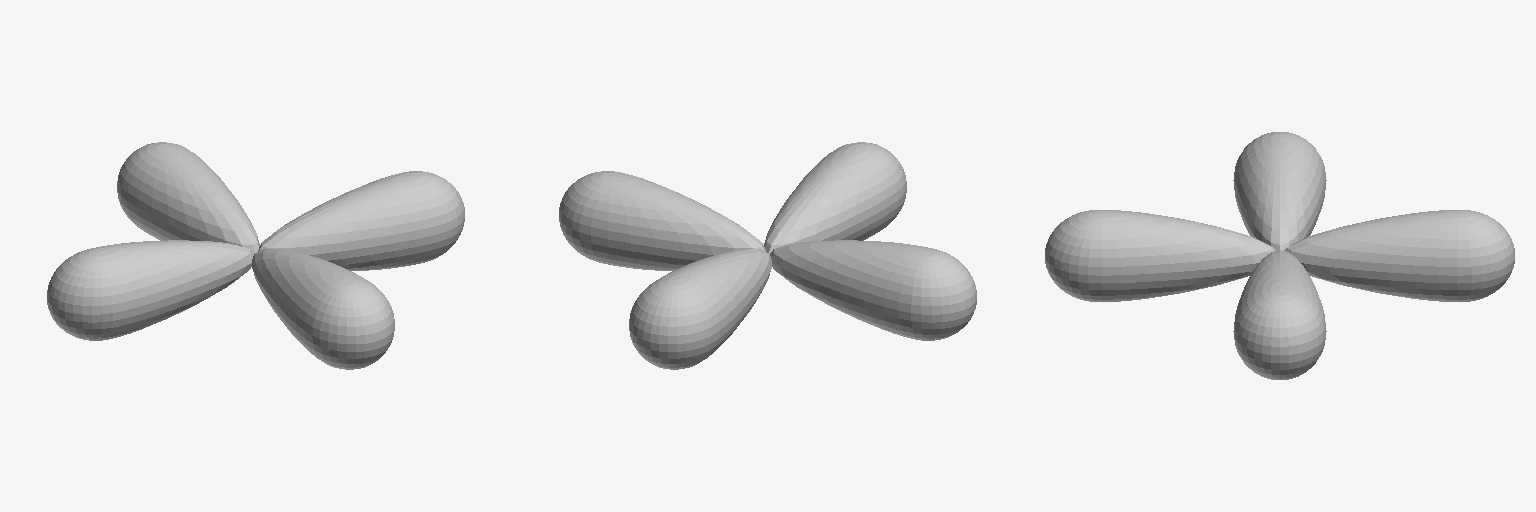
3 renders of one model, left to right at view 1: azimuth 30°, elevation 25°; view 2: azimuth 150°, elevation 25°; view 3: azimuth 270°, elevation 25°, orthographic.
Visible parts, largest first — view 1: dz.004, dx.004; view 2: dz.004, dx.004; view 3: dx.004, dz.004.
Boxes of the visible parts, x1=… form: dz.004: x1=47, y1=171, x2=464, y2=340; dx.004: x1=117, y1=142, x2=394, y2=369; dz.004: x1=559, y1=171, x2=976, y2=340; dx.004: x1=629, y1=142, x2=906, y2=369; dx.004: x1=1045, y1=210, x2=1514, y2=301; dz.004: x1=1233, y1=132, x2=1326, y2=379.
Size of the model in its own units: 272 by 53.77 by 272.